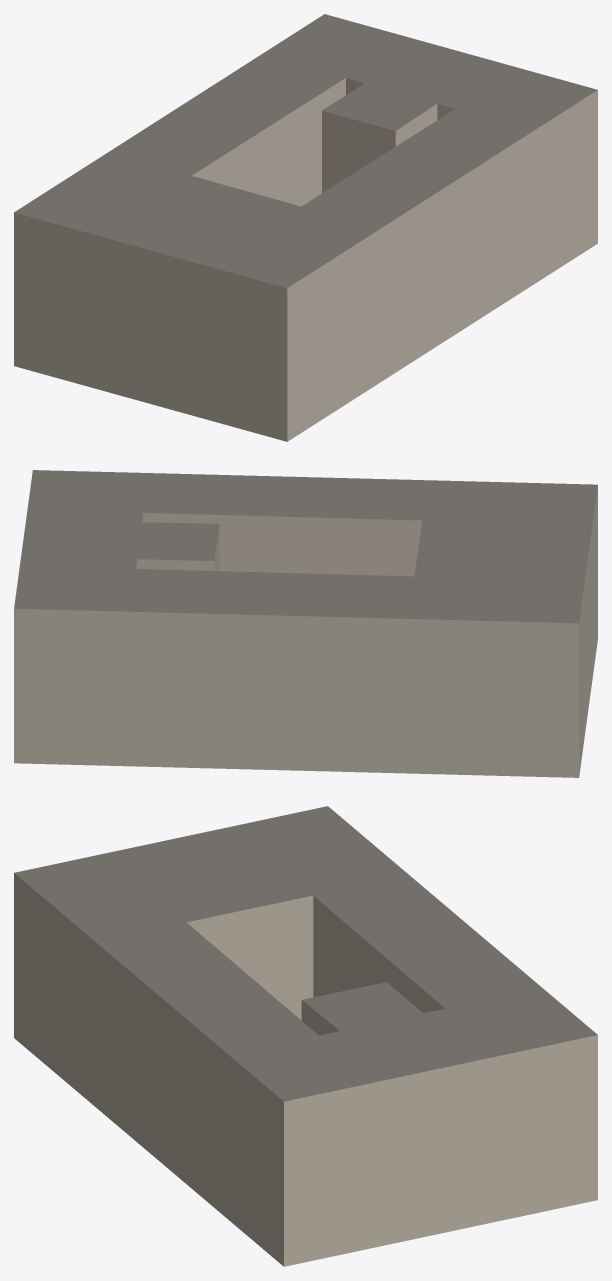
The picture shows the model from 3 angles, top to bottom: view 1: azimuth 30°, elevation 25°; view 2: azimuth 150°, elevation 25°; view 3: azimuth 270°, elevation 25°; orthographic projection. The views are drawn at different scales.
Visible parts, largest first — view 1: HP-r3974785; view 2: HP-r3974785; view 3: HP-r3974785.
Boxes of the visible parts, x1,y1,x2,y2 form: HP-r3974785: [14, 14, 597, 441]; HP-r3974785: [14, 470, 597, 777]; HP-r3974785: [14, 806, 597, 1266].
Size of the model in its own units: 69.07 by 18 by 57.67.
